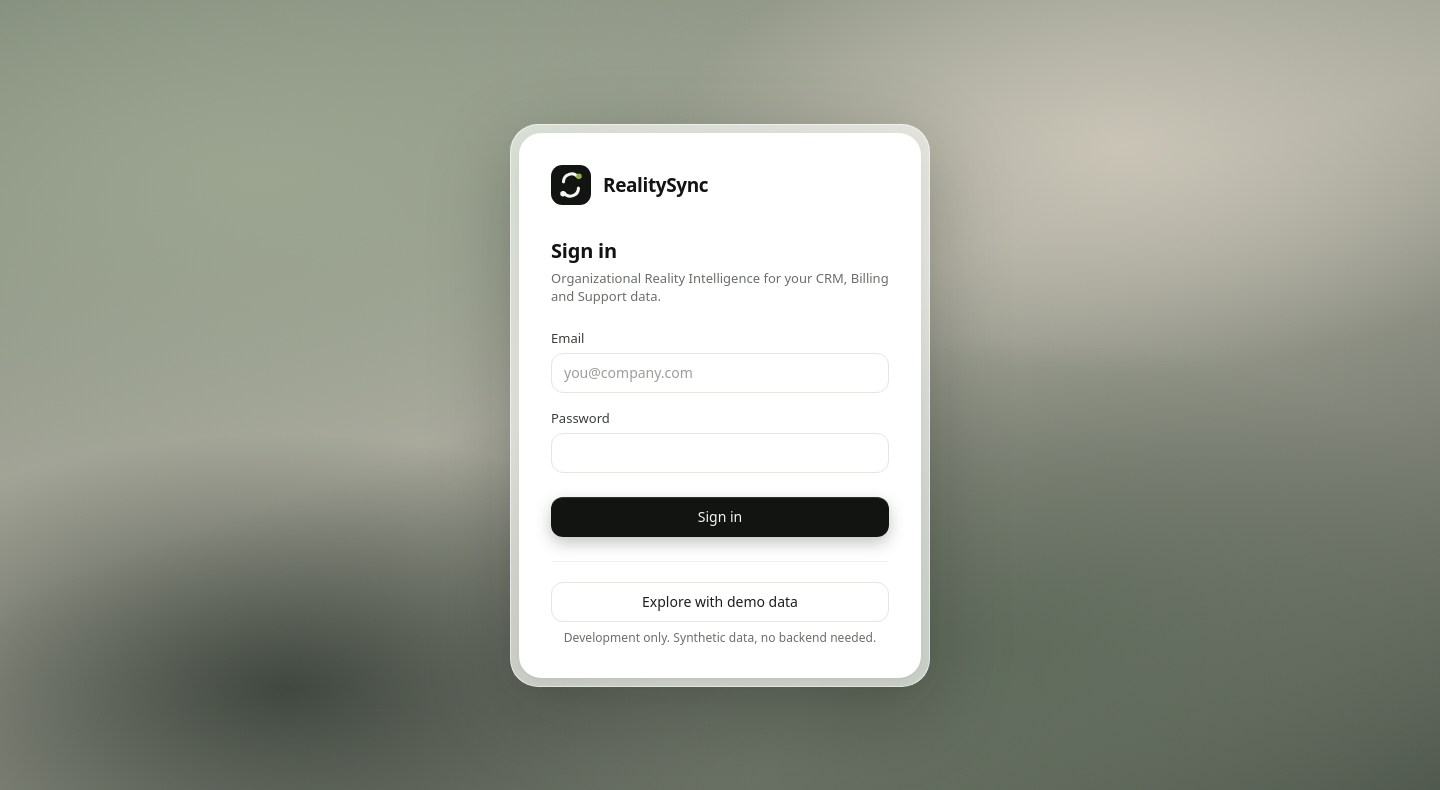
Test: login page › offers demo data in development and skips the backend
Step 1. Click the button "Explore with demo data" → {"x": 720, "y": 602}, box [551,582,889,622]
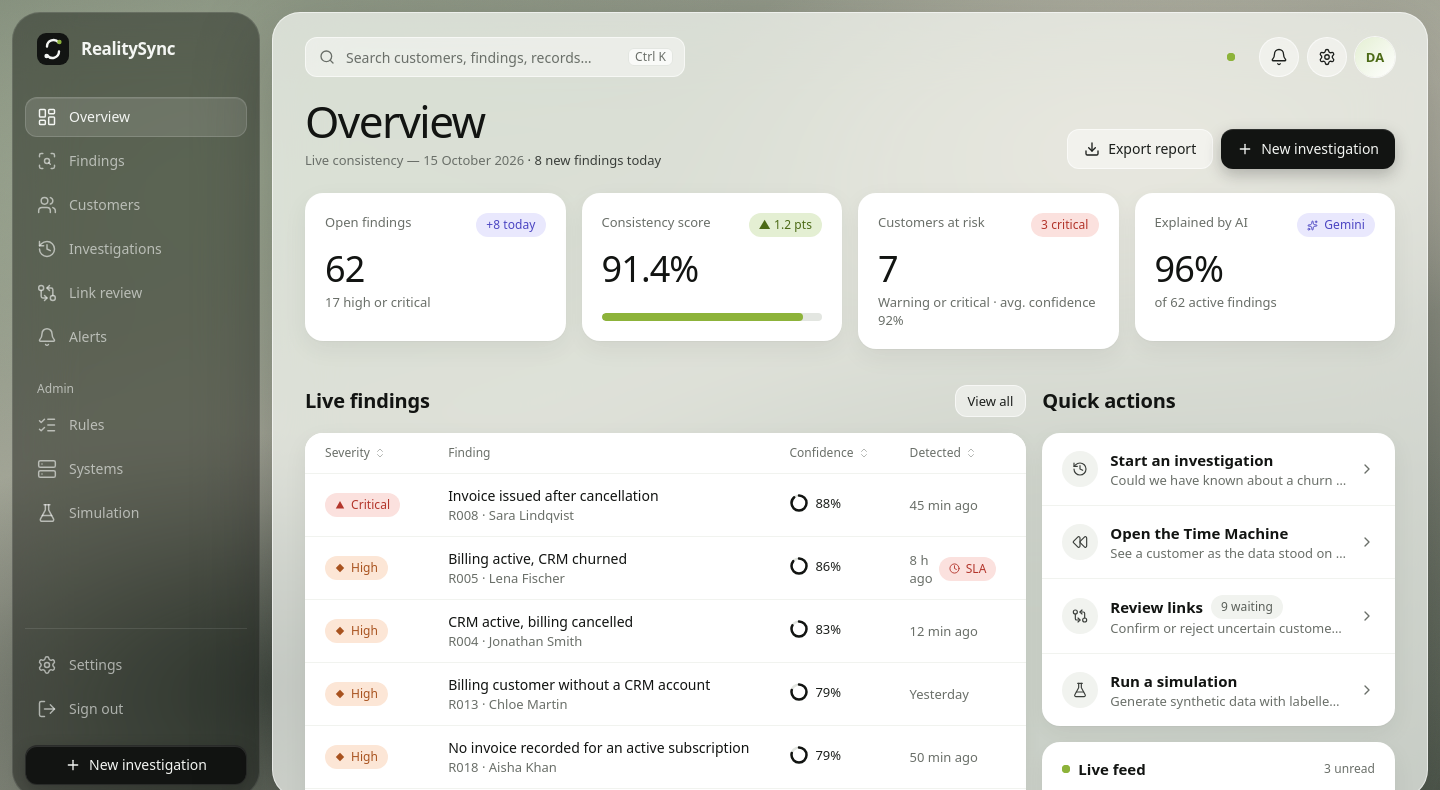
Now the heading "Overview" is shown, box [305,91,485,151]
